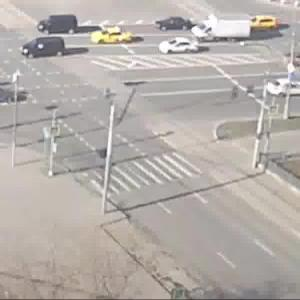car: (192, 7, 255, 52), (19, 36, 68, 61), (38, 15, 81, 33), (92, 27, 135, 45), (265, 76, 300, 98), (161, 15, 199, 34), (246, 12, 279, 30), (161, 41, 200, 56), (276, 51, 299, 64)
